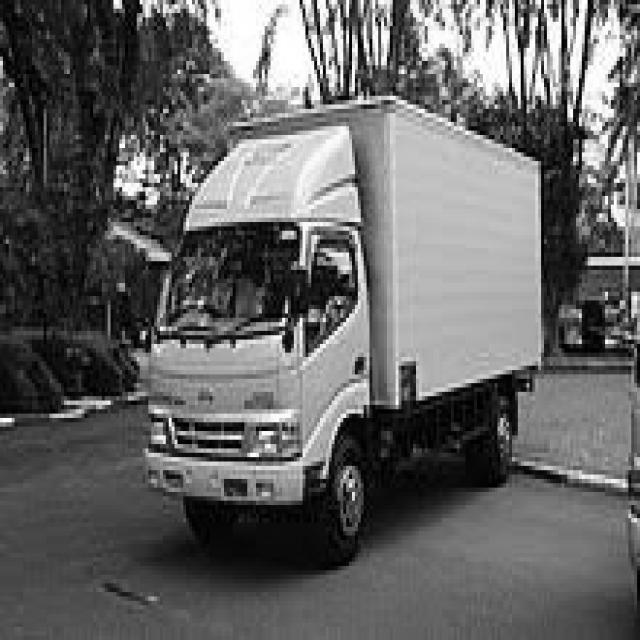truck: (115, 110, 416, 575)
